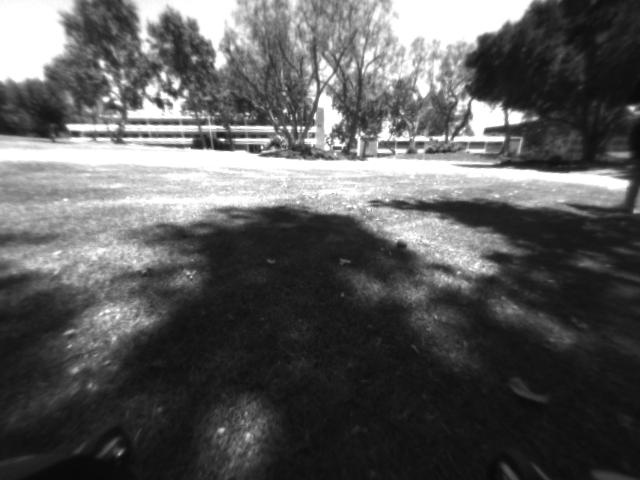dogtoy: (392, 235, 411, 256)
